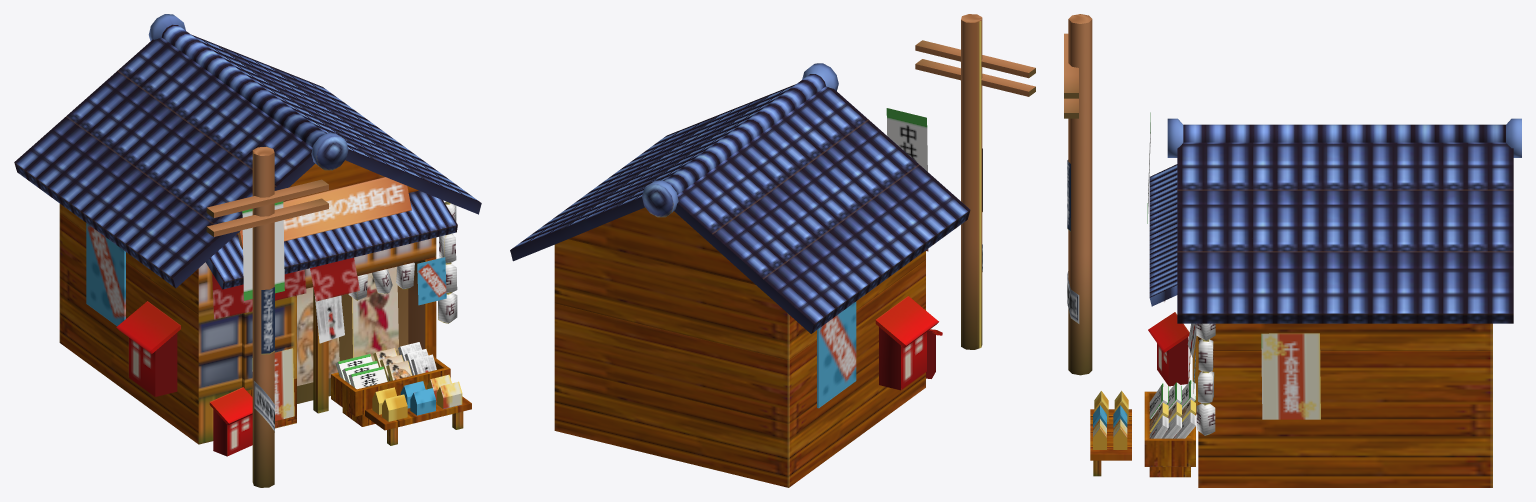
File: The grocery store.FBX
3 views of the same model, side by side, from view 1: azimuth 30°, elevation 25°; view 2: azimuth 150°, elevation 25°; view 3: azimuth 270°, elevation 25° (orthographic). The views are drawn at different scales.
Parts seen in each view (by area): view 1: The grocery store; view 2: The grocery store; view 3: The grocery store.
Boxes of the visible parts, bbox=[...] form: The grocery store: bbox=[14, 14, 481, 487]; The grocery store: bbox=[510, 14, 1035, 487]; The grocery store: bbox=[1064, 14, 1521, 487].
Bounding box in the file's own units: 140968 × 139095 × 164304.
